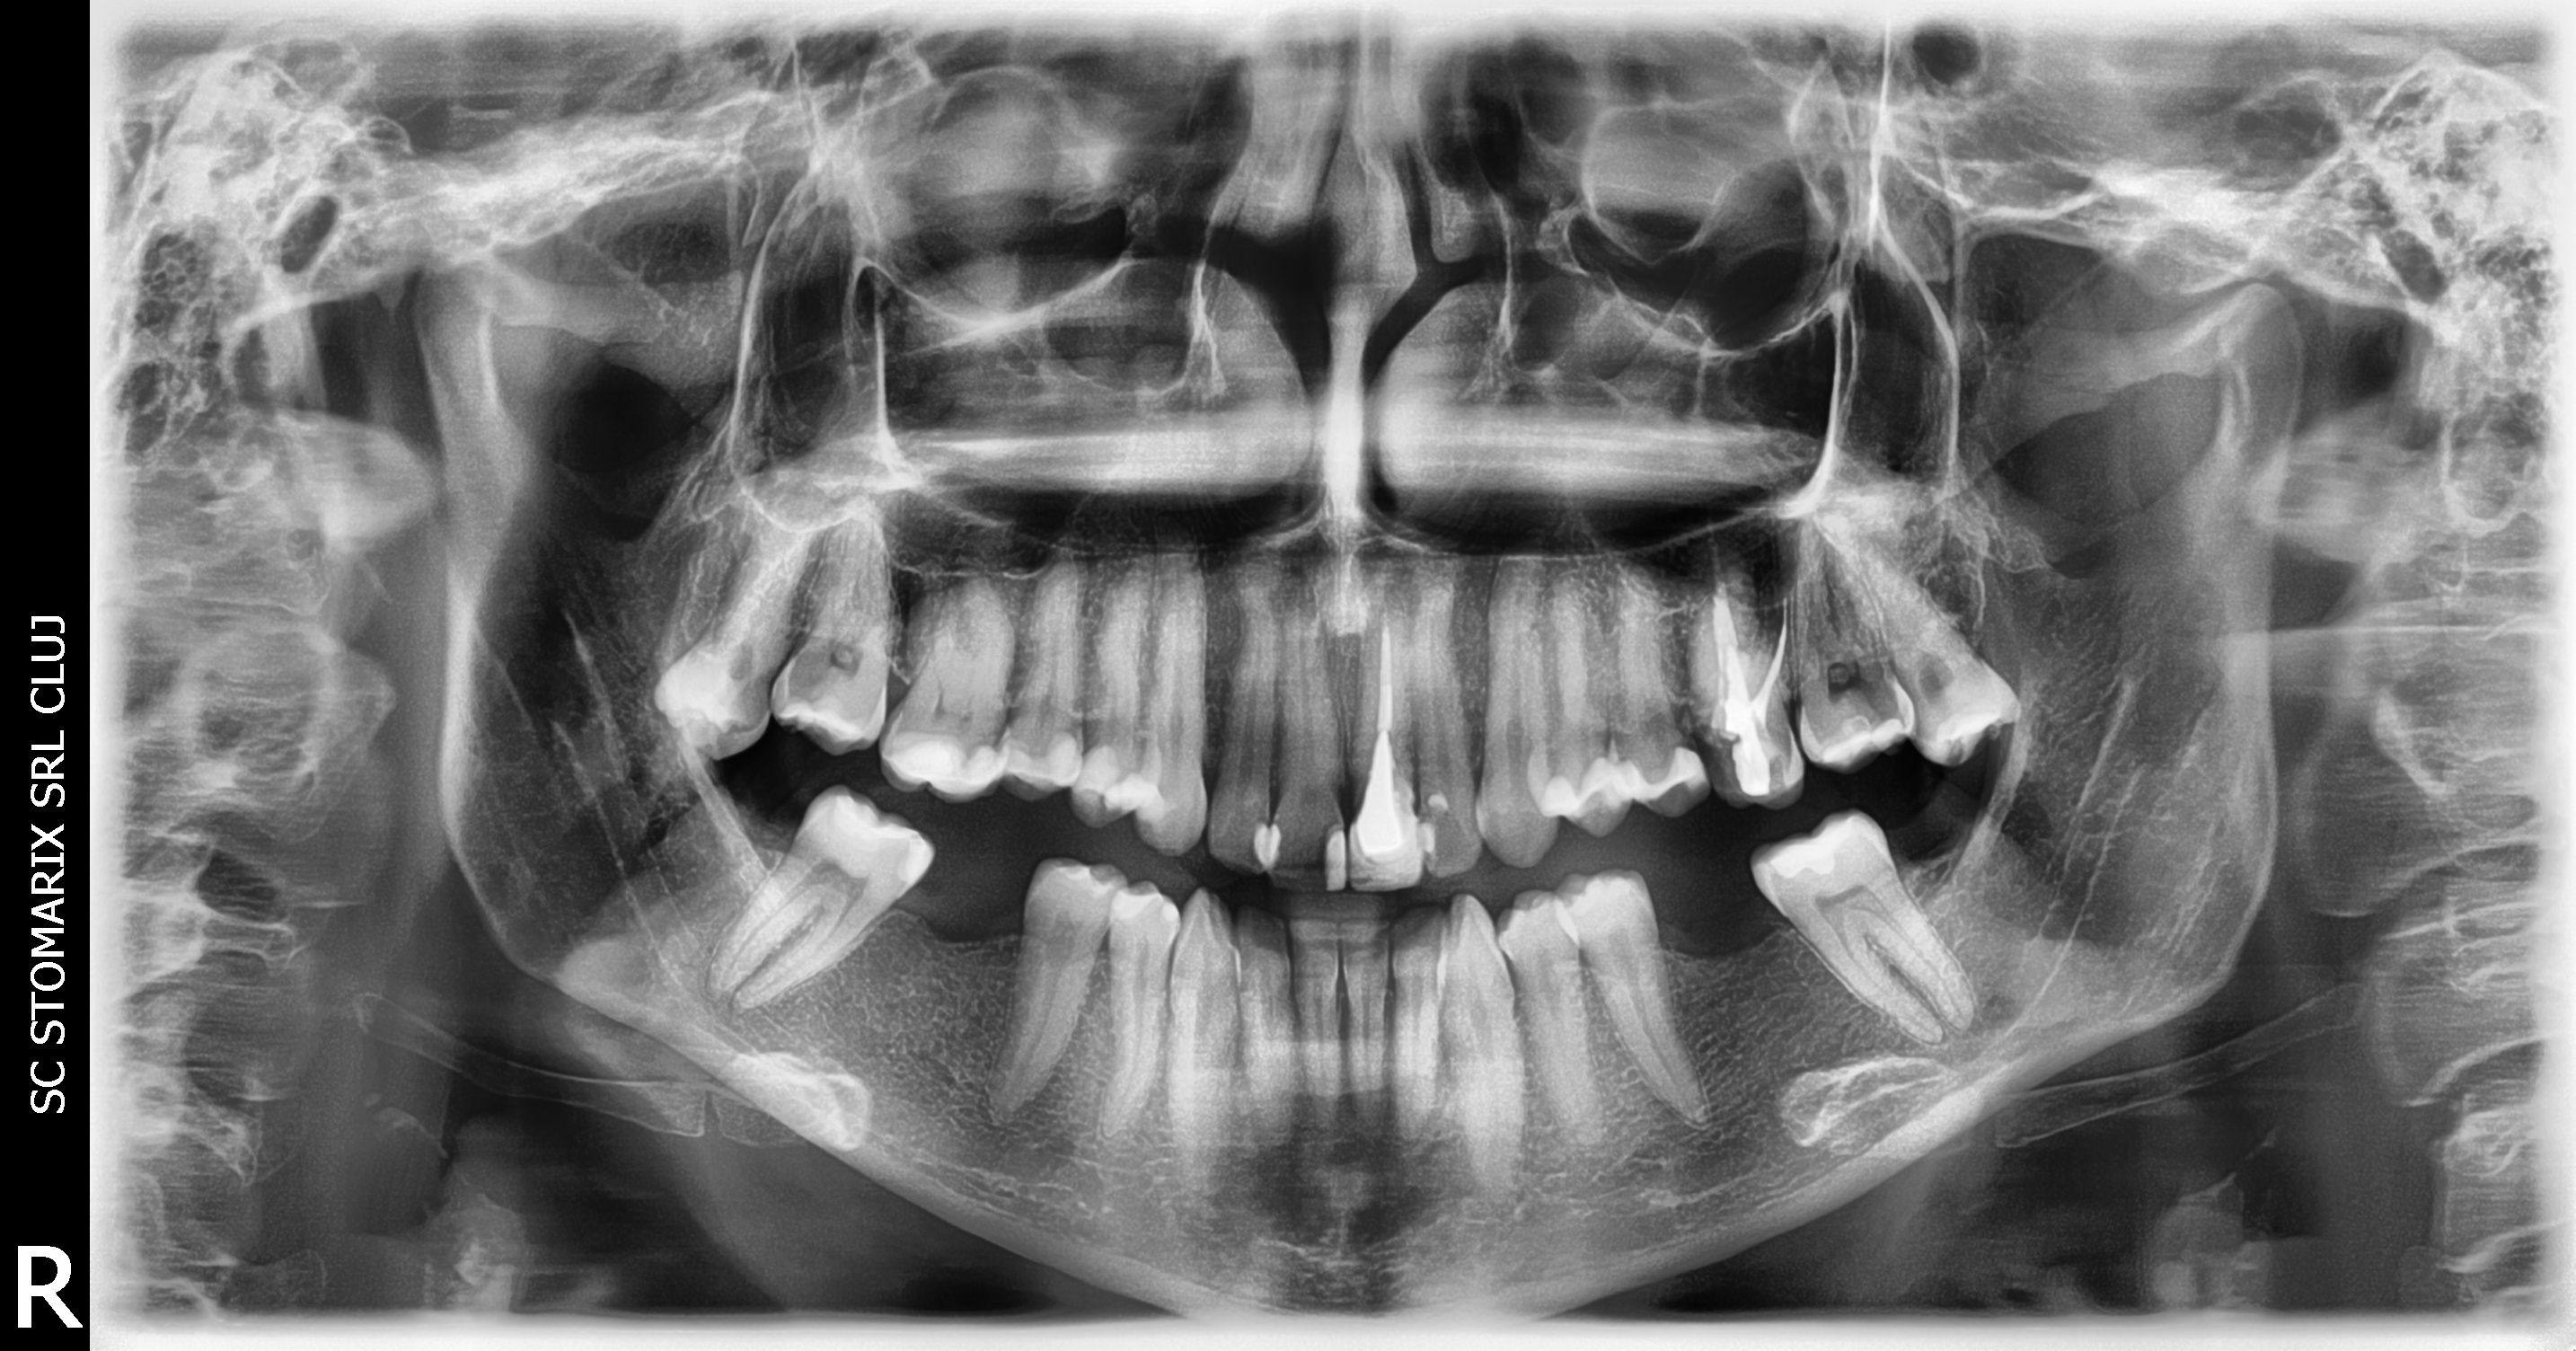CAR: (1695, 726, 1736, 794)
OBT: (1772, 819, 1852, 876)
